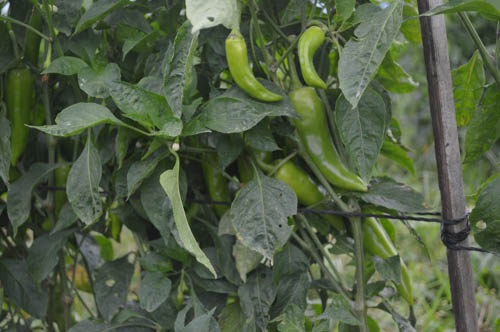ChiliPepper: (293, 87, 365, 189), (359, 218, 416, 302), (274, 157, 339, 227), (228, 39, 279, 105), (7, 69, 34, 164), (199, 153, 236, 221), (294, 27, 329, 91), (45, 159, 70, 218)
